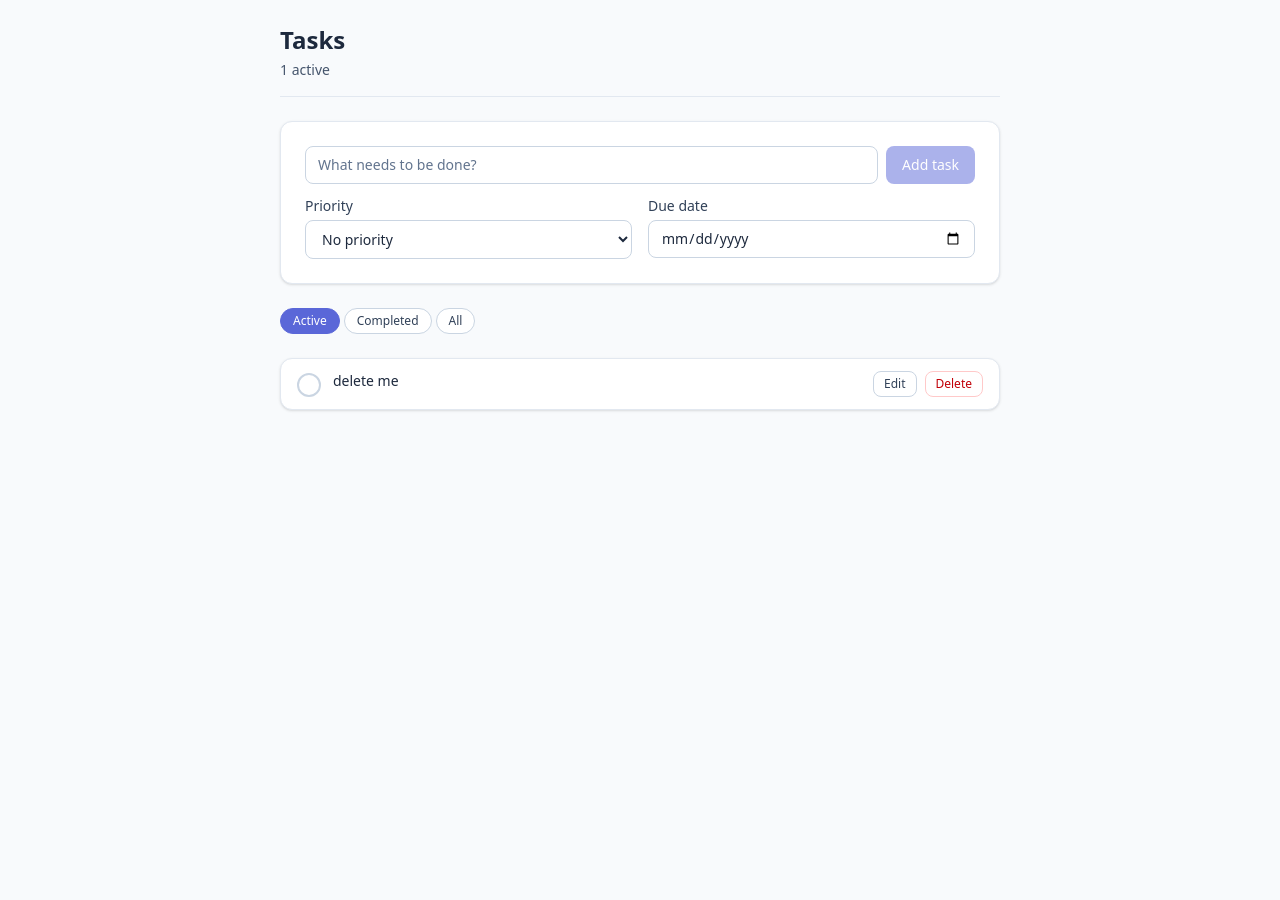
Test: Tasks page › deletes a task after confirmation
Expected: the text "delete me" is shown, [333,371,399,390]
Click the button titled "Delete" at (954, 384), box [924,371,983,397]
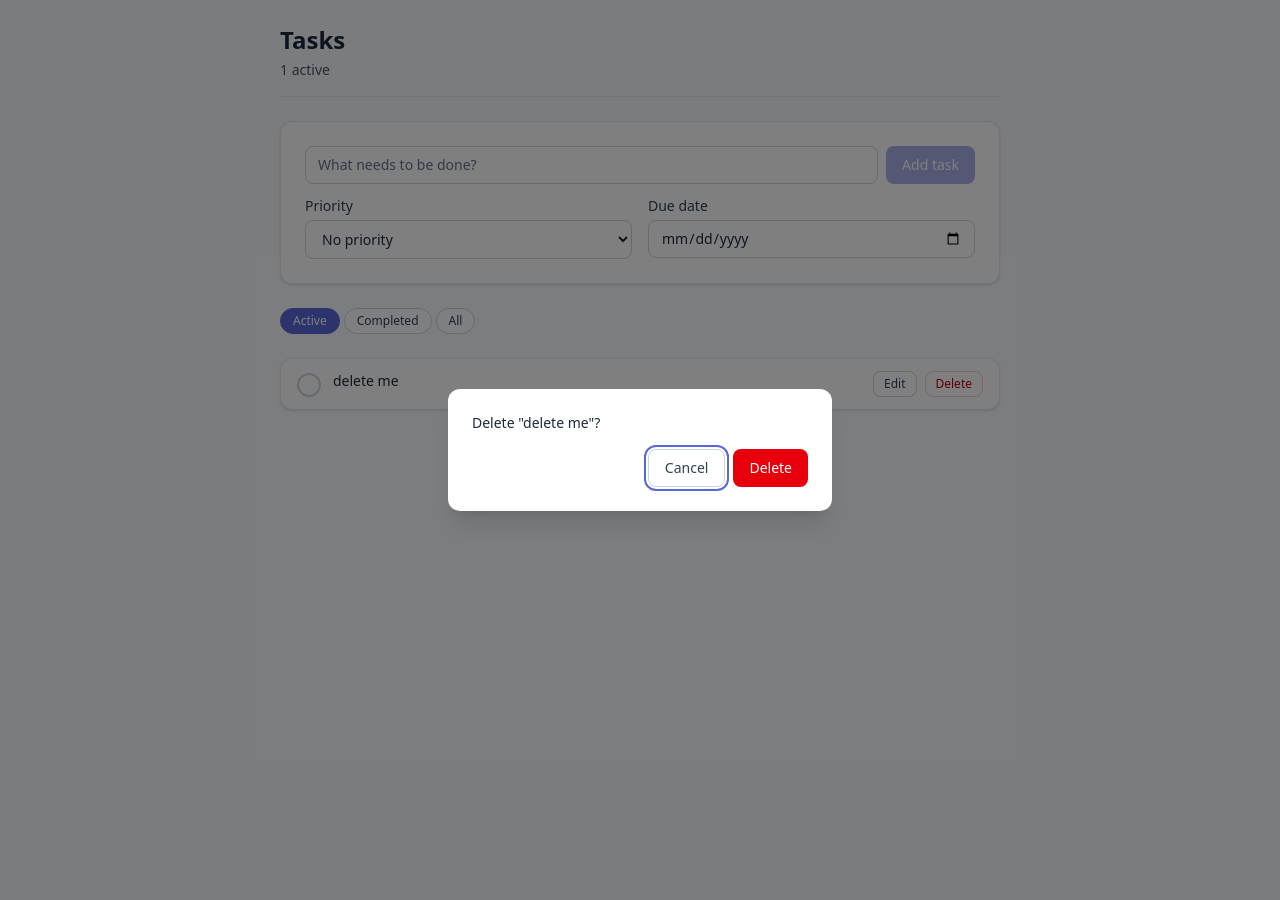
Click the button "Delete" below "Delete \"delete me\"?" at (771, 468), box [733,449,808,487]
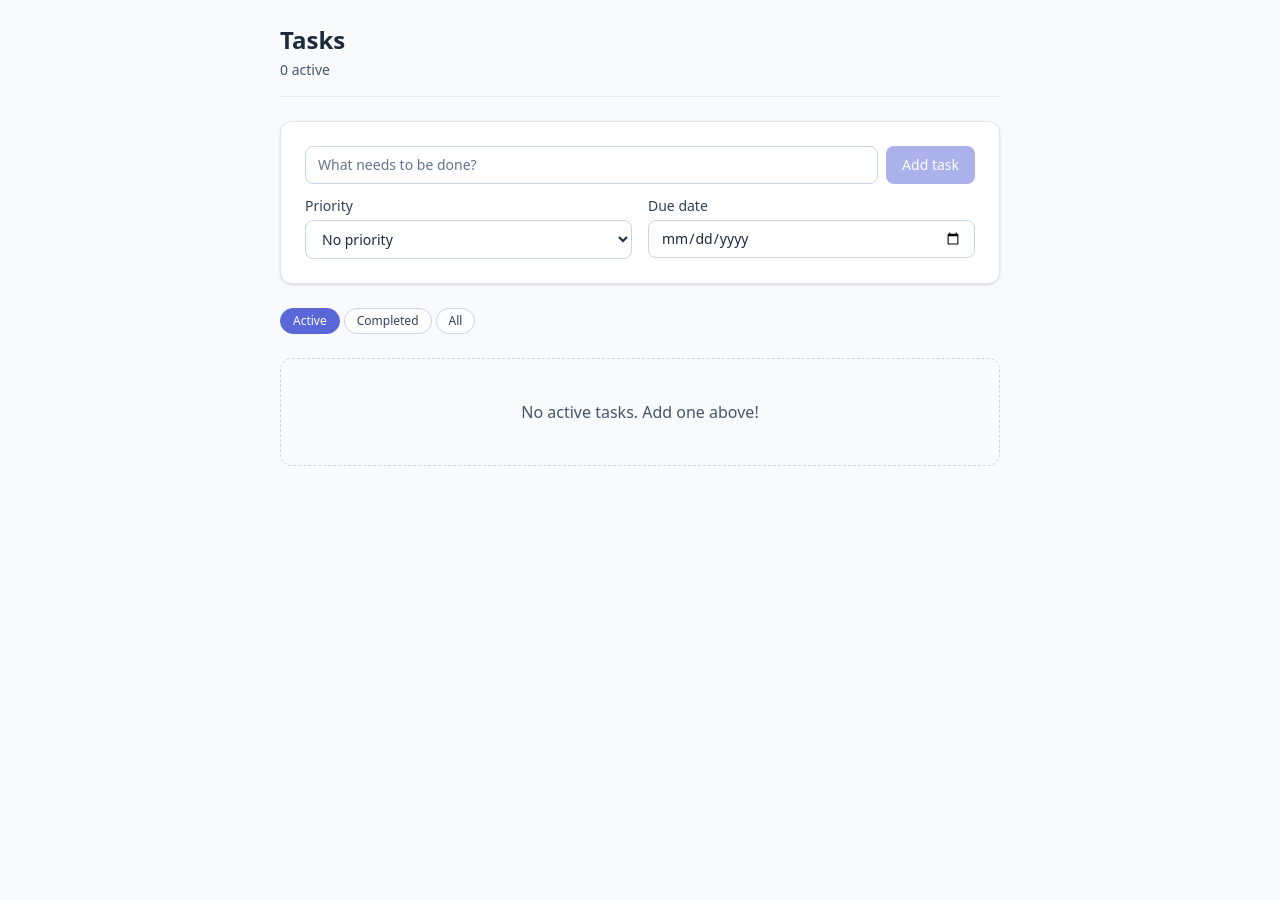
Result: the text "delete me" is gone
